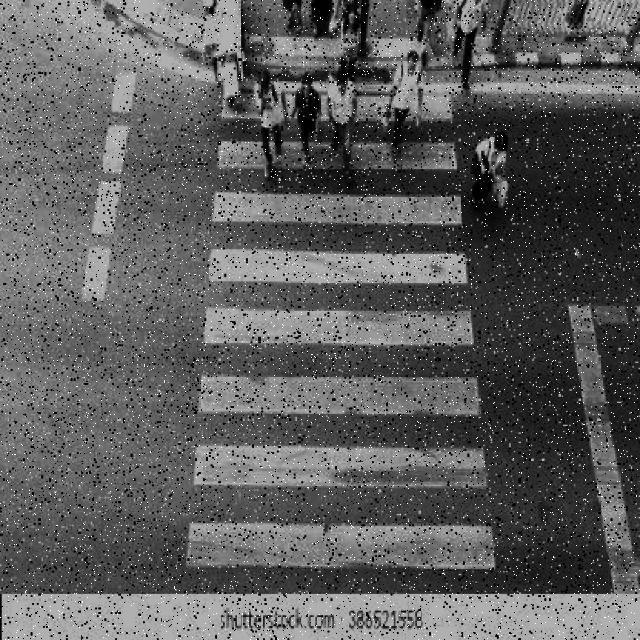crosswalk: (187, 136, 502, 573)
